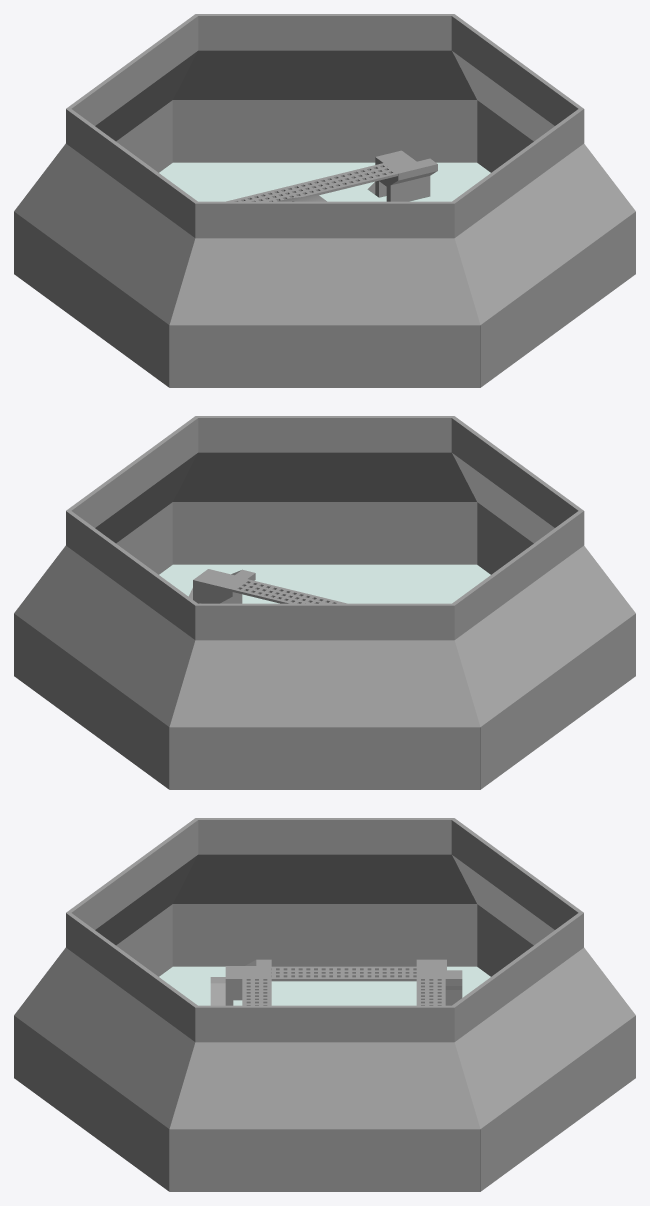
File: HeroArena_02.fbx
The picture shows the model from 3 angles, top to bottom: view 1: azimuth 30°, elevation 25°; view 2: azimuth 150°, elevation 25°; view 3: azimuth 270°, elevation 25°; orthographic projection.
Parts seen in each view (by area): view 1: Walls, pPlane1, Tower_1, Bridge_1; view 2: Walls, pPlane1, Tower_2, Bridge_2; view 3: Walls, pPlane1, Small_Bridge, Tower_3, Tower_4, Bridge_1, Bridge_2.
Part boxes in pixels (x1,y1,x2,y2): Walls: (14, 14, 635, 387); pPlane1: (160, 163, 489, 200); Tower_1: (367, 150, 437, 201); Bridge_1: (226, 163, 397, 201); Walls: (14, 416, 635, 789); pPlane1: (160, 565, 489, 602); Tower_2: (188, 569, 255, 603); Bridge_2: (232, 579, 346, 603); Walls: (14, 818, 635, 1191); pPlane1: (160, 967, 489, 1004); Small_Bridge: (271, 966, 416, 981); Tower_3: (210, 959, 271, 1005); Tower_4: (416, 959, 462, 1005); Bridge_1: (416, 979, 445, 1005); Bridge_2: (242, 979, 271, 1005).
Size of the model in its own units: 70.57 by 23.92 by 81.49.
